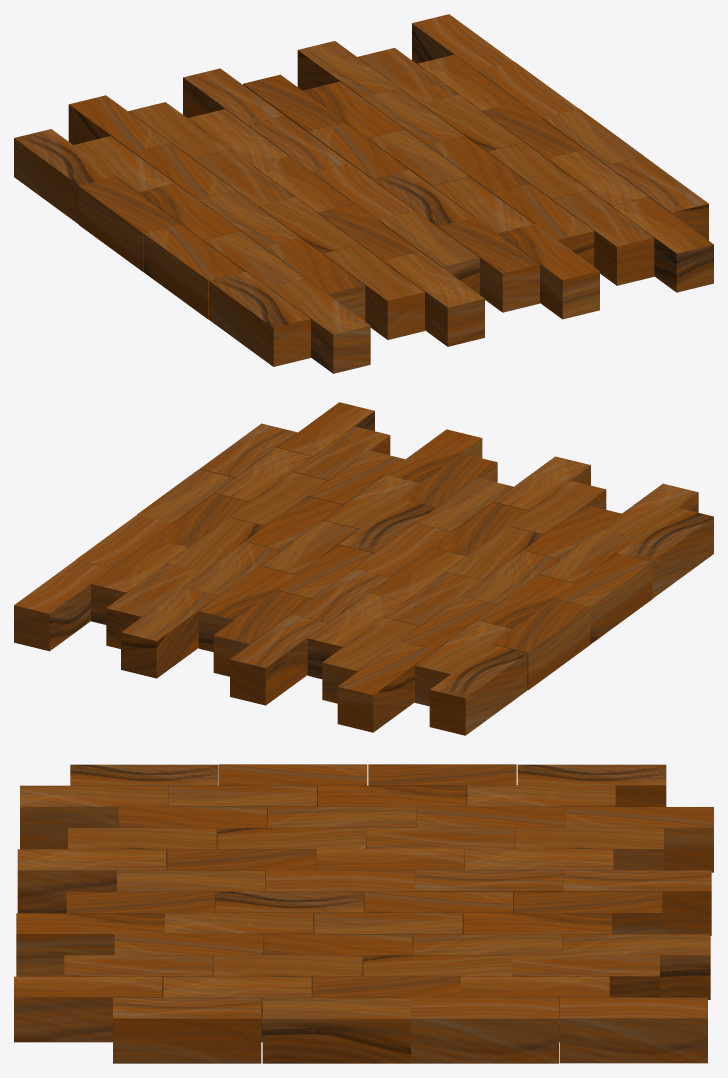
File: DiagonalContinuousSide2.glb
The picture shows the model from 3 angles, top to bottom: view 1: azimuth 30°, elevation 25°; view 2: azimuth 150°, elevation 25°; view 3: azimuth 270°, elevation 25°; orthographic projection. The views are drawn at different scales.
Parts seen in each view (by area): view 1: DiagonalContinuousSide2; view 2: DiagonalContinuousSide2; view 3: DiagonalContinuousSide2.
Boxes of the visible parts, x1,y1,x2,y2 form: DiagonalContinuousSide2: (14,14,713,373); DiagonalContinuousSide2: (14,402,713,735); DiagonalContinuousSide2: (14,764,713,1063).
Size of the model in its own units: 4.87 by 0.4 by 5.66.
1 material, 1 textured.
